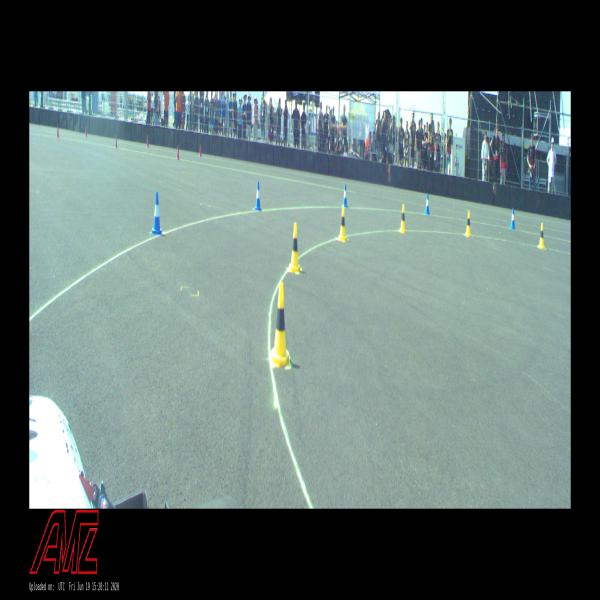blue_cone: (151, 192, 162, 233), (254, 181, 262, 211), (342, 184, 348, 207), (510, 207, 516, 229), (424, 193, 430, 214)
yellow_cone: (270, 283, 290, 366), (288, 223, 300, 273), (338, 206, 346, 241), (399, 204, 406, 232), (538, 223, 545, 249), (465, 210, 471, 236)
